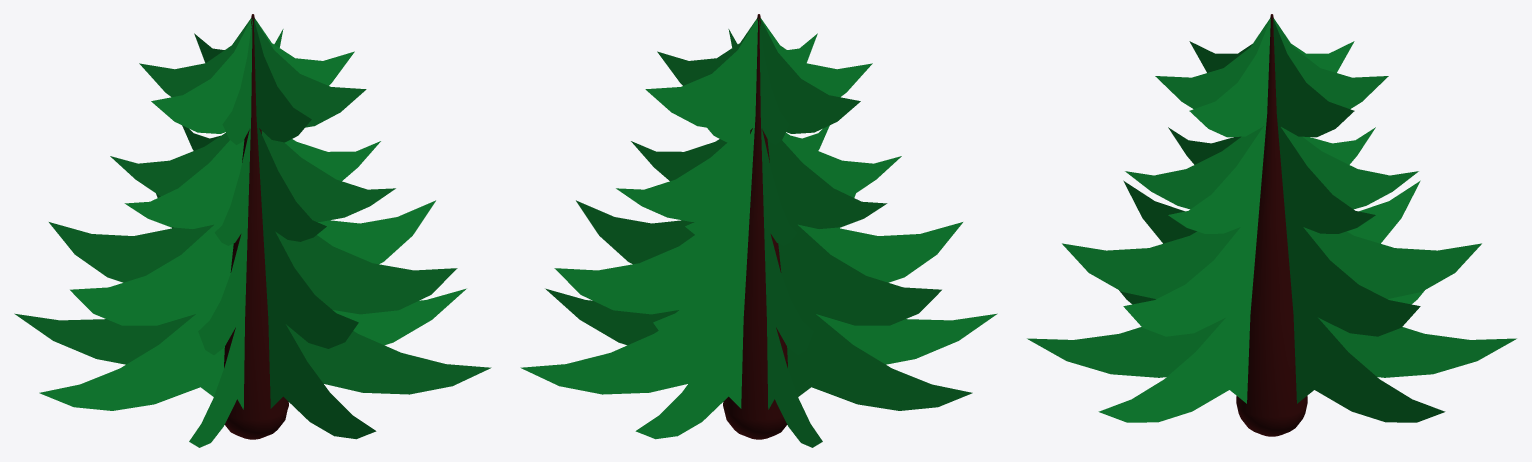
The model's file is plant8.fbx.
3 views of the same model, side by side, from view 1: azimuth 30°, elevation 25°; view 2: azimuth 150°, elevation 25°; view 3: azimuth 270°, elevation 25° (orthographic).
Parts seen in each view (by area): view 1: Leaves, Stem_2; view 2: Leaves, Stem_2; view 3: Leaves, Stem_2.
Part boxes in pixels (x1=…): Leaves: x1=14, y1=18, x2=491, y2=447; Stem_2: x1=224, y1=14, x2=288, y2=439; Leaves: x1=520, y1=18, x2=997, y2=447; Stem_2: x1=723, y1=14, x2=787, y2=439; Leaves: x1=1027, y1=18, x2=1516, y2=422; Stem_2: x1=1236, y1=14, x2=1307, y2=436.
Size of the model in its own units: 2.17 by 2.04 by 2.17.
